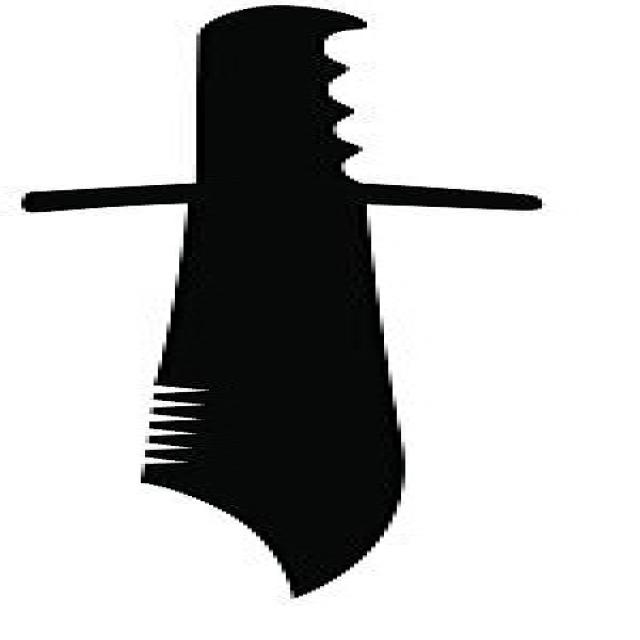knife: (10, 1, 592, 640)
